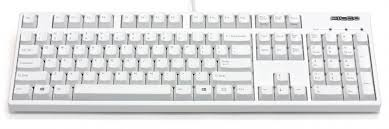keyboard: (13, 8, 380, 115)
